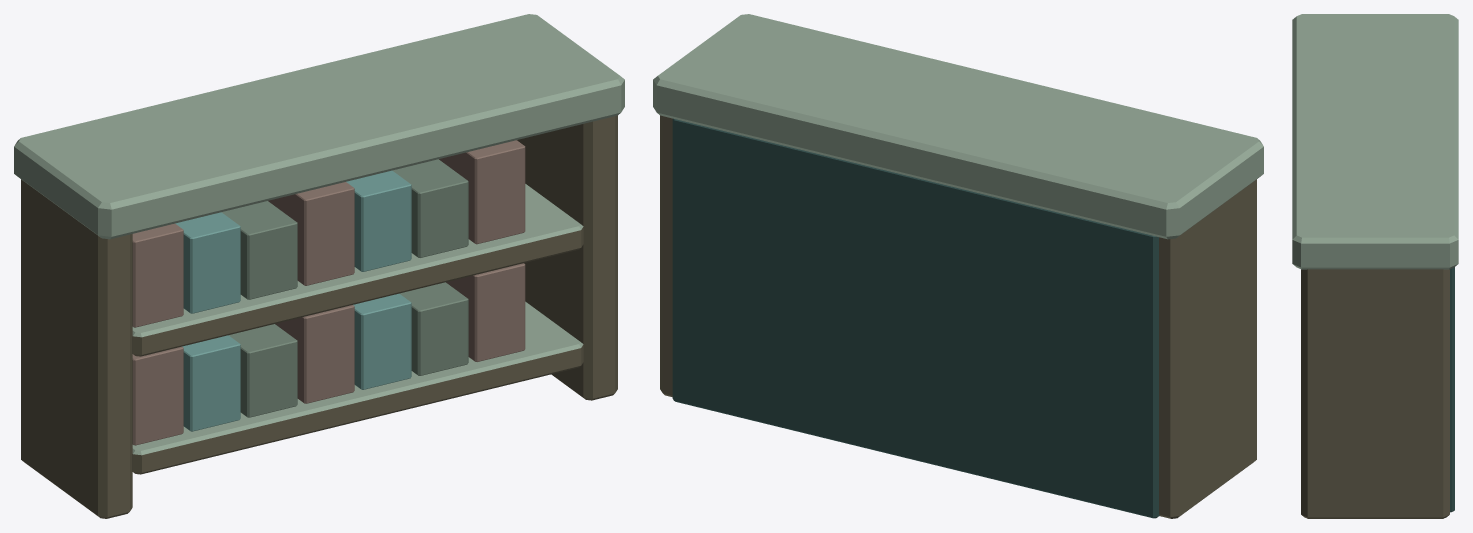
File: bookcase-low.glb
3 renders of one model, left to right at view 1: azimuth 30°, elevation 25°; view 2: azimuth 150°, elevation 25°; view 3: azimuth 270°, elevation 25°, orthographic. The views are drawn at different scales.
Visible parts, largest first — view 1: bookcase-low__body; view 2: bookcase-low__body; view 3: bookcase-low__body.
Part boxes in pixels (box(x1,y1,x2,y2)): bookcase-low__body: box(14, 14, 624, 518); bookcase-low__body: box(653, 14, 1263, 518); bookcase-low__body: box(1292, 14, 1458, 518).
Bounding box in the file's own units: 1.52 × 0.88 × 0.47.
